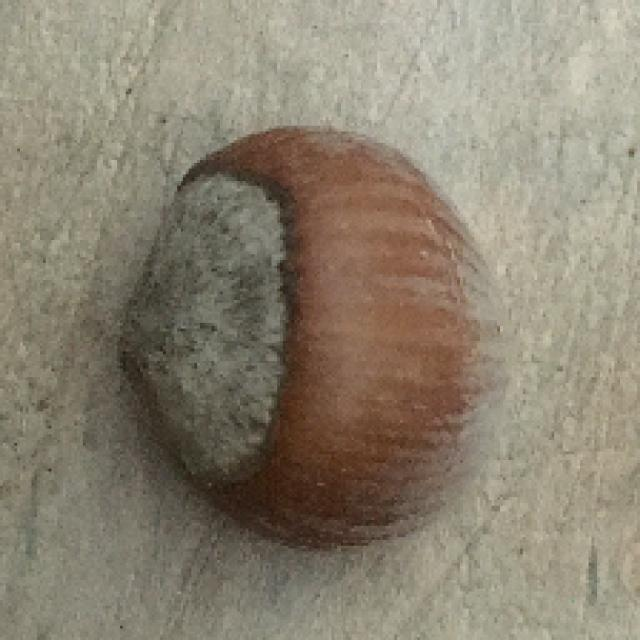QualityHazelnut: (116, 122, 515, 554)
